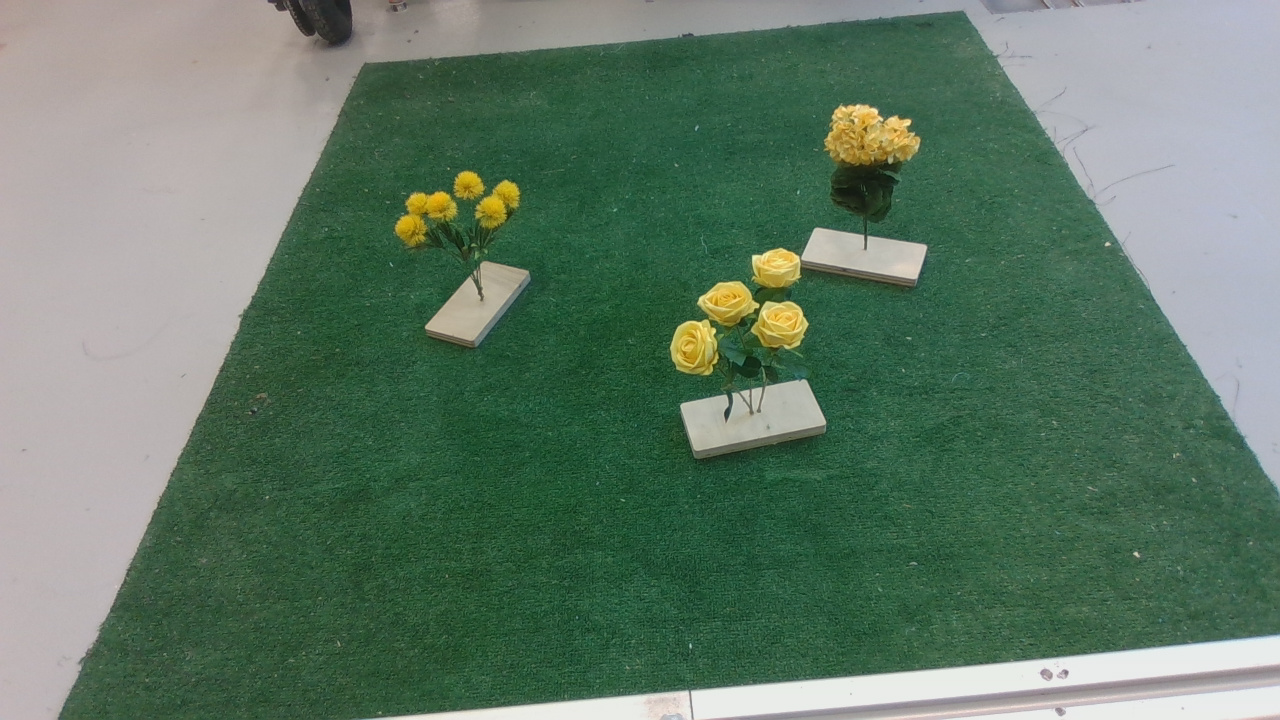dandelion: (391, 170, 536, 267)
geranium: (828, 100, 931, 229)
rose: (672, 248, 812, 397)
